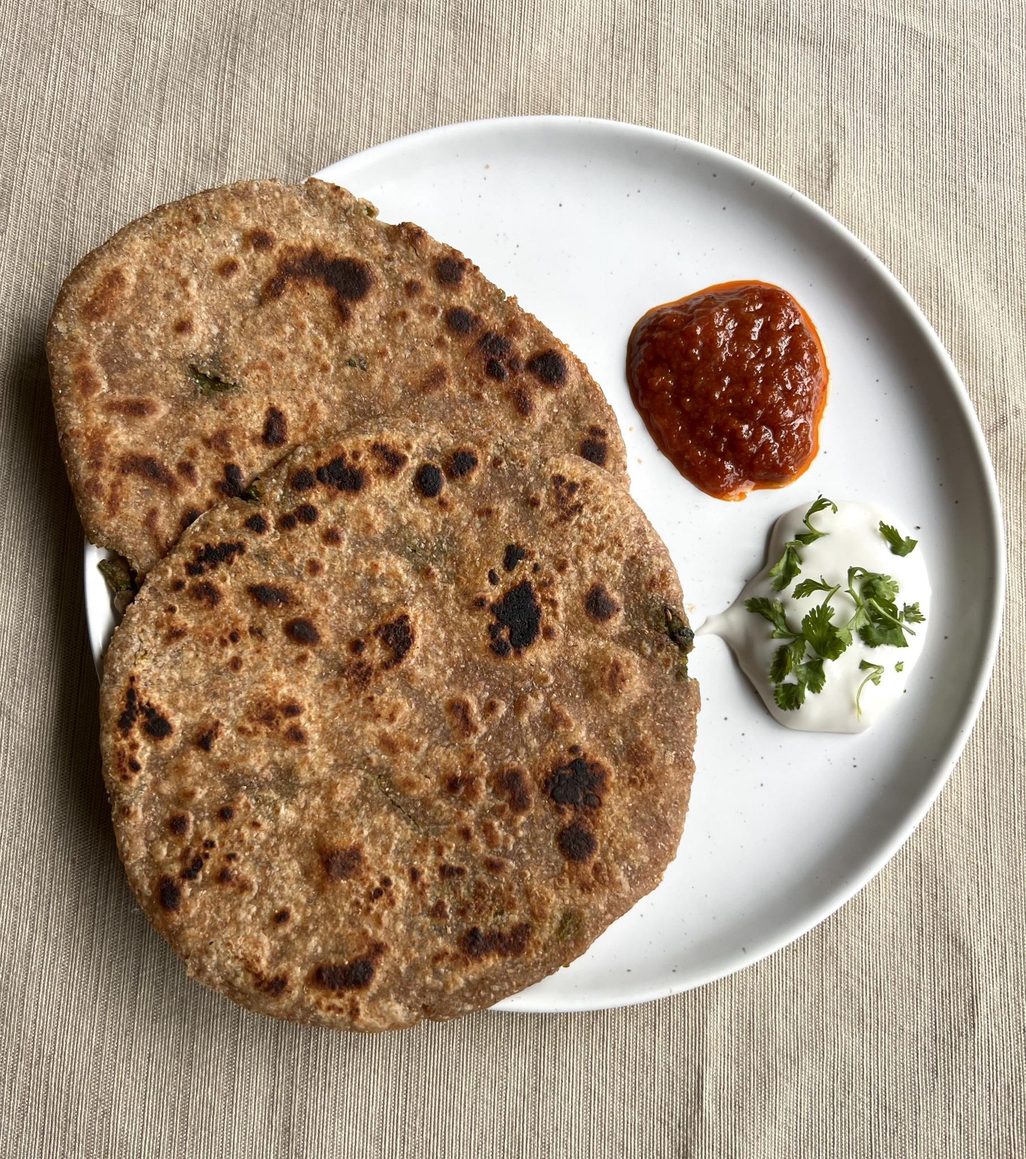paratha: (163, 467, 643, 1030), (46, 162, 544, 525)
